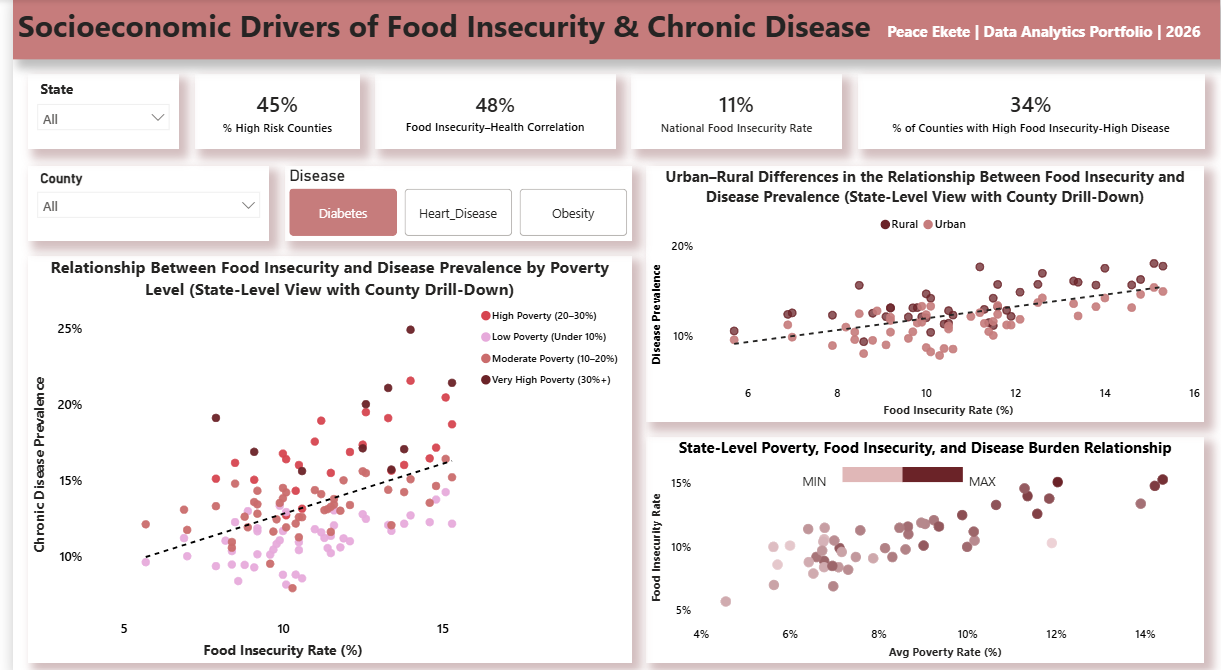

This screenshot's page, from the dashboard's own definition file:
{"tool":"powerbi","page":{"name":"Page 2_socioeconomic_drivers","canvas":[1280,720],"ordinal":1},"visuals":[{"type":"advancedSlicerVisual","fields":{"Values":["Slicer_Table.Outcome_Name"]},"box":[288,176,368,80],"z":0},{"type":"scatterChart","title":"Relationship Between Food Insecurity and Disease Prevalence by Poverty Level (State-Level View with County Drill-Down)","fields":{"X":["Avg(master_county_final.Food_Insecurity_21_23)"],"Series":["master_county_final.Poverty_Bin"],"Category":["master_county_final.State.","master_county_final.County"],"Y":["Outcome Selector.Selected Disease Prevalence"]},"box":[16,272,640,432],"z":1000},{"type":"textbox","box":[0,0,1280,64],"z":2000},{"type":"cardVisual","fields":{"Data":["master_county_final.Correlation_Coefficient"]},"box":[384,80,256,80],"z":3000},{"type":"cardVisual","fields":{"Data":["master_county_final.National Food Insecurity Rate"]},"box":[656,80,224,80],"z":4000},{"type":"cardVisual","fields":{"Data":["master_county_final.High Risk Counties"]},"box":[192,80,176,80],"z":5000},{"type":"scatterChart","title":"Urban–Rural Differences in the Relationship Between Food Insecurity and Disease Prevalence (State-Level View with County Drill-Down)","fields":{"X":["Avg(master_county_final.Food_Insecurity_21_23)"],"Series":["master_county_final.Urban_Rural"],"Y":["Outcome Selector.Health Outcome"],"Category":["master_county_final.State.","master_county_final.County"]},"box":[672,176,592,272],"z":6000},{"type":"slicer","fields":{"Values":["State_Lookup.State_Full"]},"box":[16,80,160,80],"z":7000},{"type":"scatterChart","title":"State-Level Poverty, Food Insecurity, and Disease Burden Relationship","fields":{"X":["master_county_final.State Avg Poverty"],"Category":["master_county_final.State."],"Y":["master_county_final.State Avg FoodInsecurity"]},"box":[672,464,592,240],"z":8000},{"type":"cardVisual","fields":{"Data":["master_county_final.Pct_High_Insecurity_High_Disease"]},"box":[896,80,368,80],"z":9000},{"type":"slicer","fields":{"Values":["master_county_final.County"]},"box":[16,176,256,80],"z":10000},{"type":"shape","box":[880,496,64,16],"z":11000},{"type":"shape","box":[944,496,64,16],"z":12000},{"type":"textbox","box":[832,496,48,32],"z":13000},{"type":"textbox","box":[1008,496,48,32],"z":14000}]}

Visuals, with their boxes in screenshot pixels (x1, y1, x2, y2), scaled from the page's 1280x720 canvas onto the 1221x670 screenshot:
advancedSlicerVisual - Slicer_Table.Outcome_Name: [275,164,626,238]
"Relationship Between Food Insecurity and Disease Prevalence by Poverty Level (State-Level View with County Drill-Down)" scatterChart: [15,253,626,655]
textbox: [0,0,1220,60]
cardVisual - master_county_final.Correlation_Coefficient: [366,74,610,149]
cardVisual - master_county_final.National Food Insecurity Rate: [626,74,839,149]
cardVisual - master_county_final.High Risk Counties: [183,74,351,149]
"Urban–Rural Differences in the Relationship Between Food Insecurity and Disease Prevalence (State-Level View with County Drill-Down)" scatterChart: [641,164,1206,417]
slicer - State_Lookup.State_Full: [15,74,168,149]
"State-Level Poverty, Food Insecurity, and Disease Burden Relationship" scatterChart: [641,432,1206,655]
cardVisual - master_county_final.Pct_High_Insecurity_High_Disease: [855,74,1206,149]
slicer - master_county_final.County: [15,164,259,238]
shape: [839,462,900,476]
shape: [900,462,962,476]
textbox: [794,462,839,491]
textbox: [962,462,1007,491]
